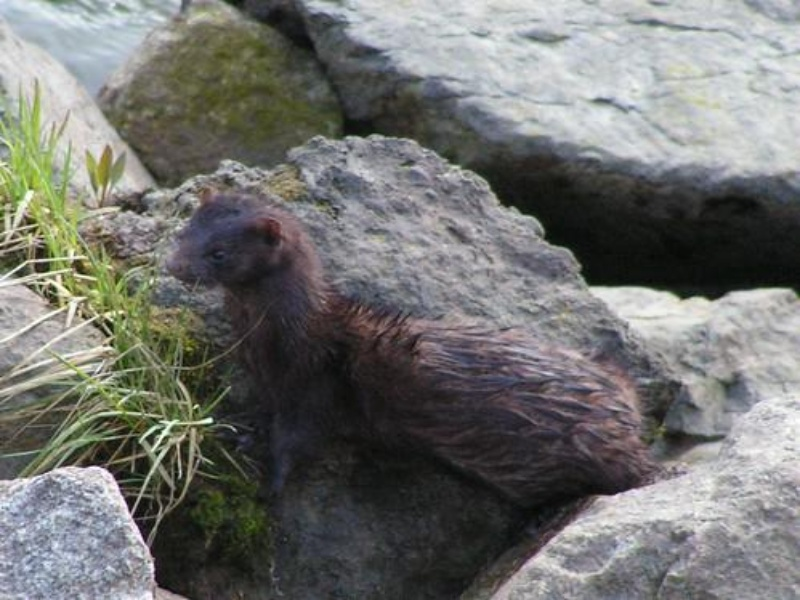minkish: (168, 180, 656, 562)
